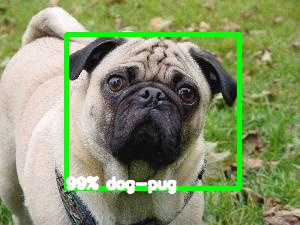dog-pug: (65, 31, 240, 163)
